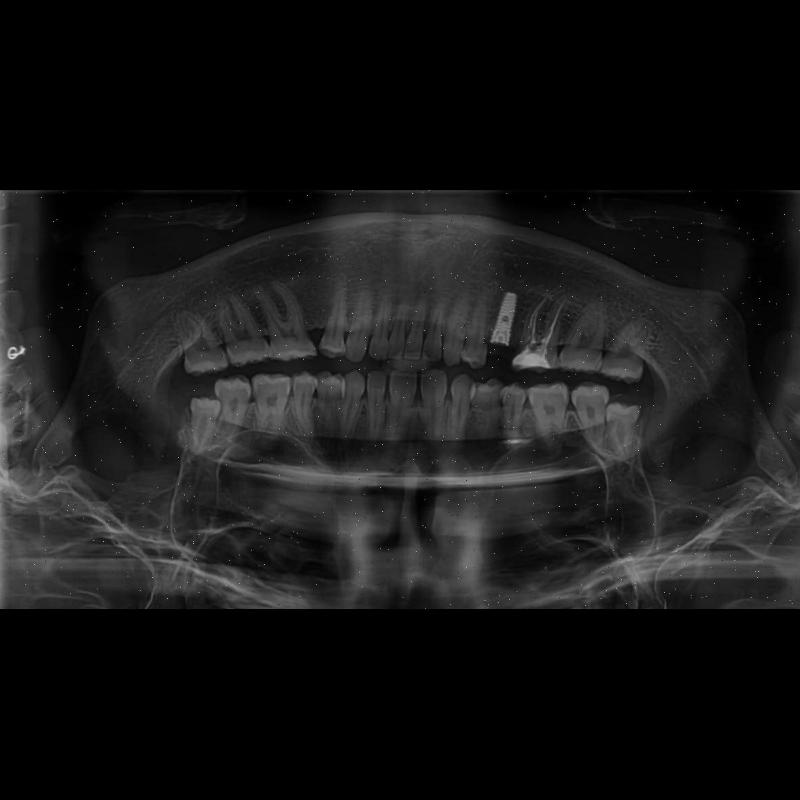osstem: (486, 282, 522, 347)
